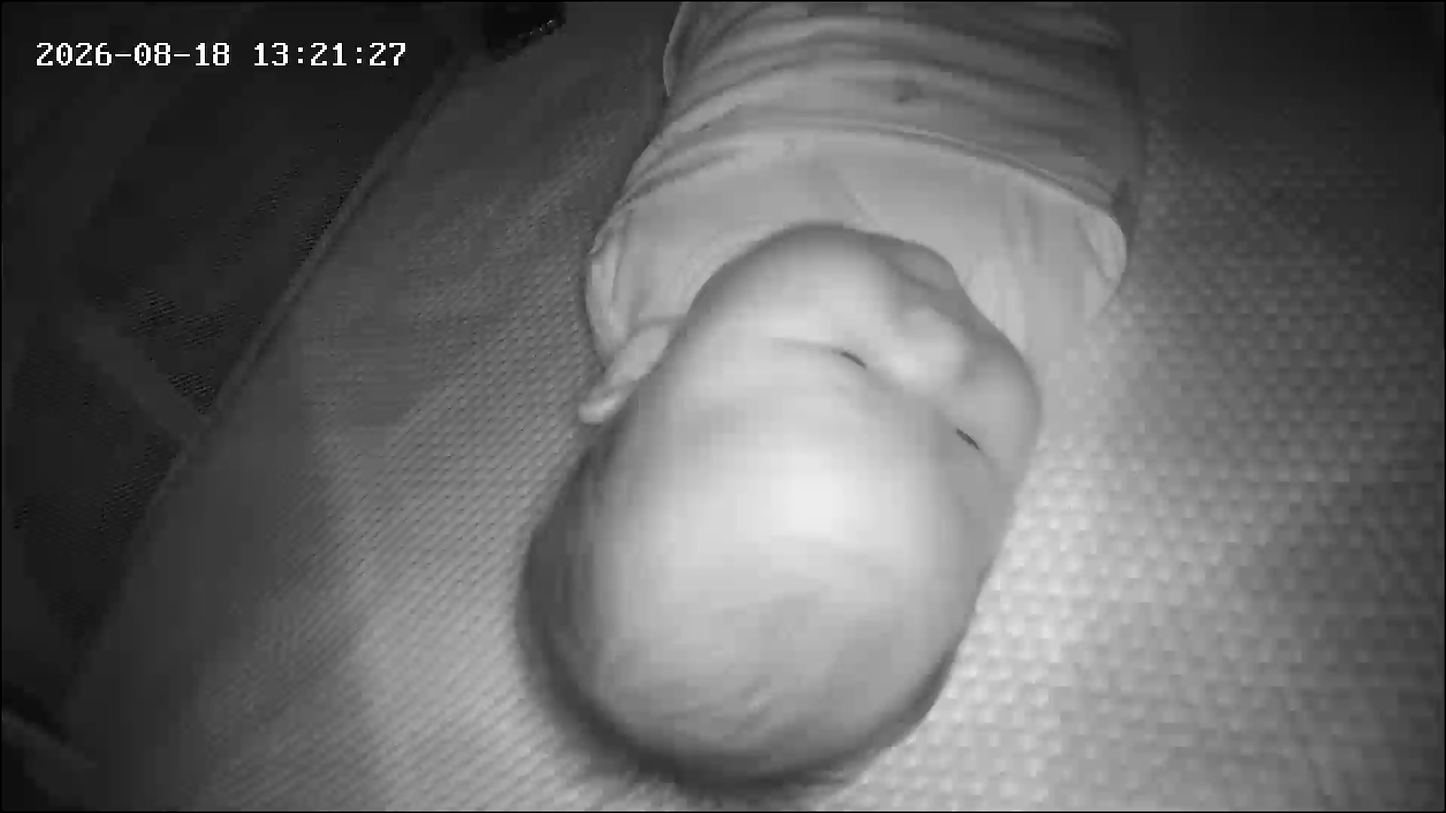baby: (514, 0, 1183, 804)
baby_face: (513, 219, 1054, 801)
